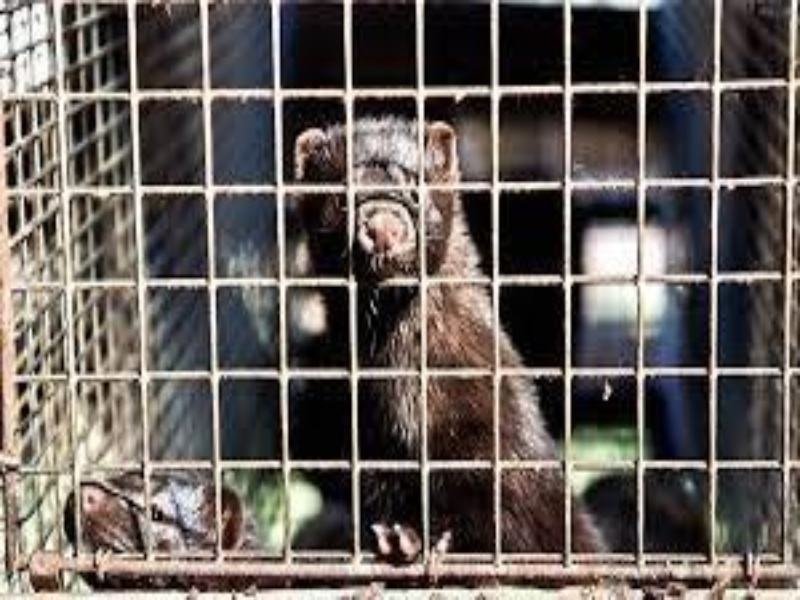minkish: (289, 118, 617, 560)
